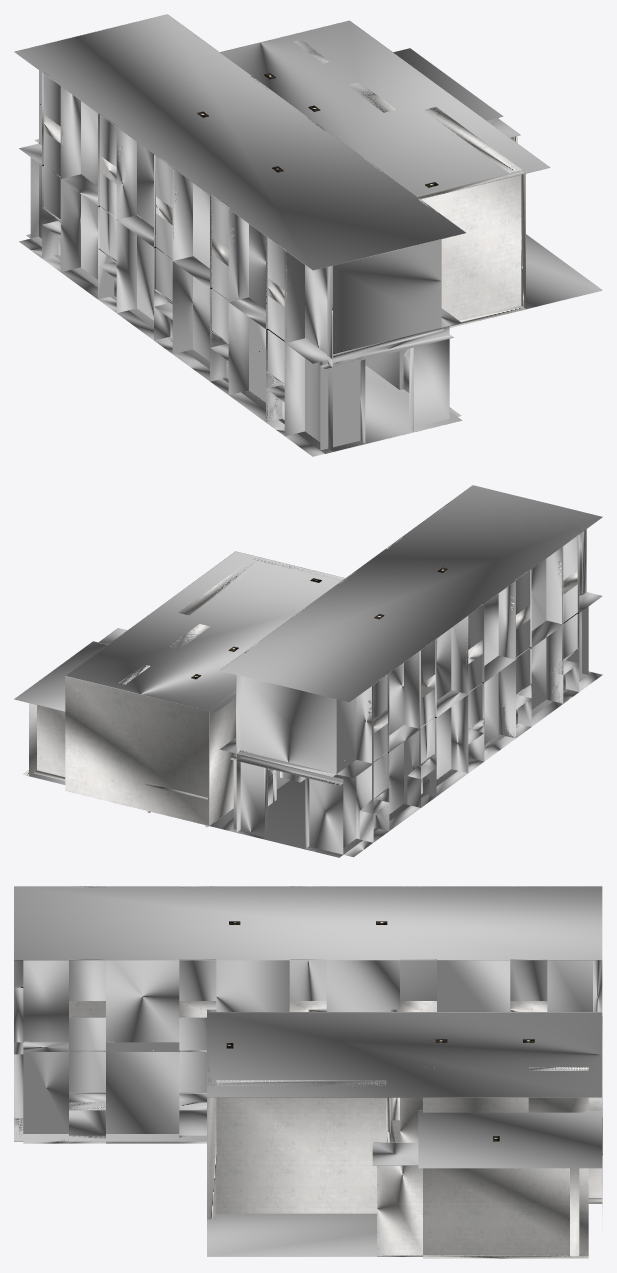
File: room2scps2_opt.obj
3 renders of one model, top to bottom at view 1: azimuth 30°, elevation 25°; view 2: azimuth 150°, elevation 25°; view 3: azimuth 270°, elevation 25°, orthographic. The views are drawn at different scales.
Bounding box in the file's own units: 78.4 × 35.82 × 103.
